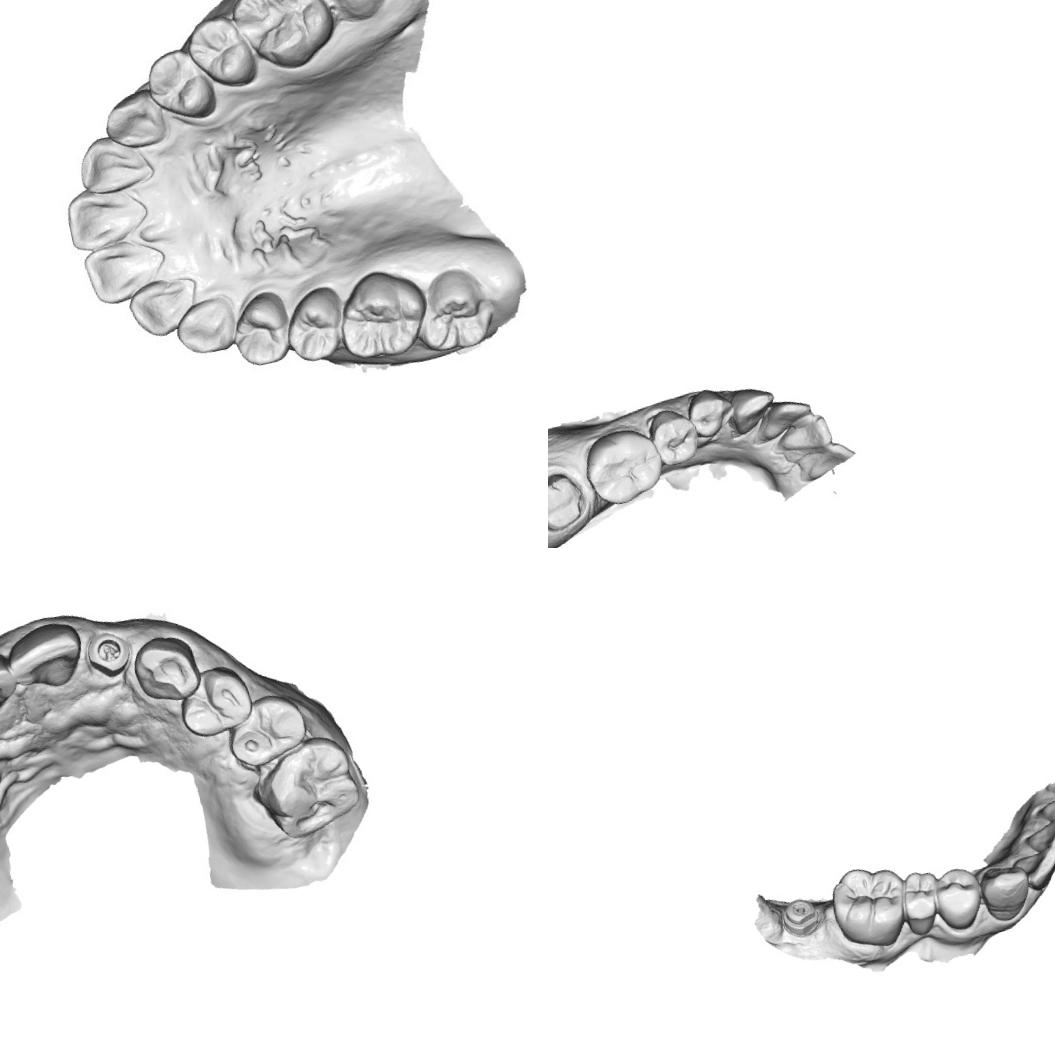canine: (126, 629, 208, 709), (170, 294, 242, 360), (974, 858, 1036, 926), (106, 90, 170, 151), (724, 378, 784, 438)
crown: (548, 460, 594, 539)
implant: (84, 628, 132, 680)
implant_minus: (777, 890, 822, 934)
incisor: (2, 618, 93, 698), (80, 234, 170, 300), (66, 186, 151, 254), (125, 276, 201, 344), (81, 137, 154, 201), (753, 392, 817, 443), (772, 408, 836, 458), (1017, 842, 1055, 892), (0, 646, 21, 724), (1018, 820, 1055, 862), (1030, 791, 1055, 830), (1039, 766, 1055, 804)
molar: (246, 729, 367, 848), (823, 858, 912, 956), (576, 421, 670, 512), (225, 0, 329, 70)
premolar: (333, 269, 433, 373), (218, 687, 314, 774), (406, 266, 492, 355), (171, 661, 258, 743), (275, 284, 347, 365), (146, 50, 215, 122), (229, 290, 296, 364), (926, 862, 990, 936), (190, 14, 254, 86), (642, 402, 704, 470), (895, 865, 946, 938), (682, 382, 738, 442)
